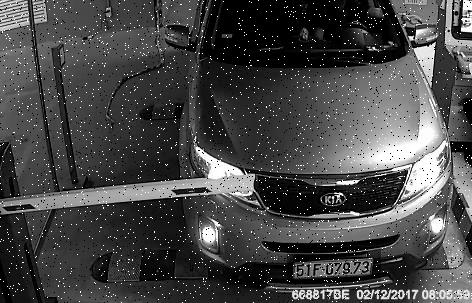License-plate: (288, 248, 382, 286)
